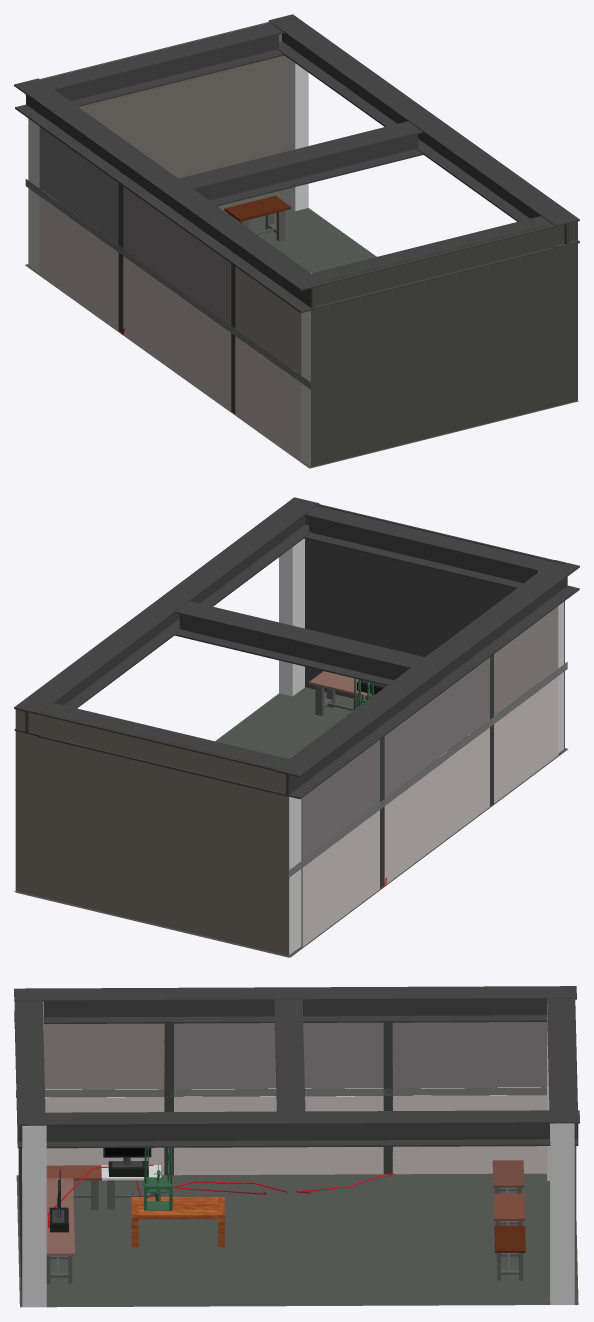
File: Salonfinsih.gltf
3 renders of one model, top to bottom at view 1: azimuth 30°, elevation 25°; view 2: azimuth 150°, elevation 25°; view 3: azimuth 270°, elevation 25°, orthographic.
Visible parts, largest first — view 1: Vigas_Amarre, ParedFondo, ParedDerecha, ParedIzquierda.005, ParedIzquierda.008, ParedIzquierda.006, ParedIzquierda.001, Piso, ParedIzquierda.007, ParedIzquierda.009, Columna4, ParedIzquierda.002 (+5 smaller); view 2: ParedDerecha, Vigas_Amarre, ParedFondo, ParedIzquierda.005, ParedIzquierda.008, Piso, ParedIzquierda.006, ParedIzquierda.001, ParedIzquierda.007, ParedIzquierda.009, Columna1, ParedIzquierda.002 (+5 smaller); view 3: Piso, Vigas_Amarre, ParedIzquierda.008, ParedIzquierda.007, ParedIzquierda.005, ParedIzquierda.009, ParedIzquierda.006, Columna1, Columna4, ParedIzquierda.002, ParedIzquierda.001, Box001 (+14 smaller).
Boxes of the visible parts, x1,y1,x2,y2 form: Vigas_Amarre: (14,14,579,312); ParedFondo: (311,217,577,467); ParedDerecha: (28,22,282,264); ParedIzquierda.005: (123,256,231,410); ParedIzquierda.008: (123,186,231,324); ParedIzquierda.006: (39,196,118,330); ParedIzquierda.001: (235,336,301,461); Piso: (25,208,578,468); ParedIzquierda.007: (39,127,118,244); ParedIzquierda.009: (235,266,301,374); Columna4: (283,55,308,210); ParedIzquierda.002: (25,179,310,389); ParedDerecha: (15,709,288,957); Vigas_Amarre: (14,497,579,799); ParedFondo: (293,499,564,748); ParedIzquierda.005: (384,727,489,884); ParedIzquierda.008: (384,657,489,797); Piso: (14,687,568,957); ParedIzquierda.006: (302,810,379,946); ParedIzquierda.001: (494,676,558,803); ParedIzquierda.007: (302,740,379,859); ParedIzquierda.009: (494,606,558,716); Columna1: (279,538,304,696); ParedIzquierda.002: (289,662,567,877); Piso: (16,1173,578,1307); Vigas_Amarre: (14,986,579,1148); ParedIzquierda.008: (174,1022,383,1089); ParedIzquierda.007: (392,1022,546,1088); ParedIzquierda.005: (174,1096,383,1175); ParedIzquierda.009: (43,1023,164,1089); ParedIzquierda.006: (392,1095,546,1174); Columna1: (22,1125,46,1307); Columna4: (550,1123,574,1304); ParedIzquierda.002: (16,1087,546,1097); ParedIzquierda.001: (45,1097,164,1175); Box001: (131,1197,224,1247).
Size of the model in its own units: 10.57 by 6.51 by 18.15.
Materials: 40 (1 with a texture image).
